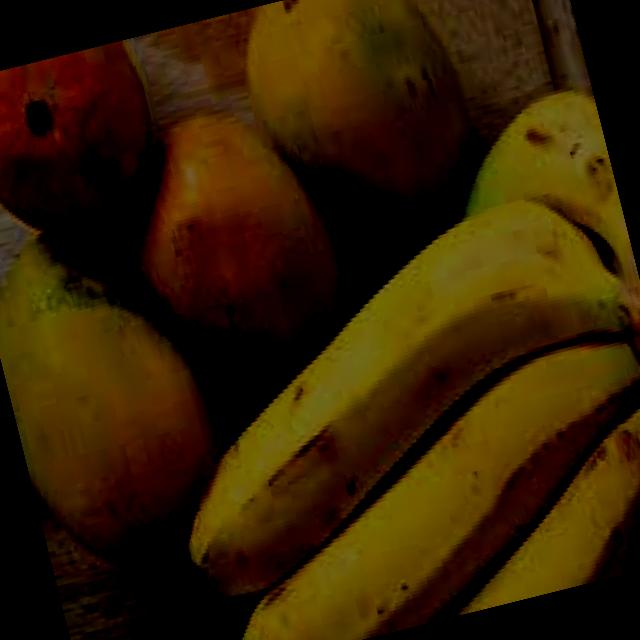Banana: (96, 85, 640, 640)
Mango: (0, 201, 249, 584), (100, 86, 372, 412), (230, 0, 492, 258), (0, 37, 175, 260)
